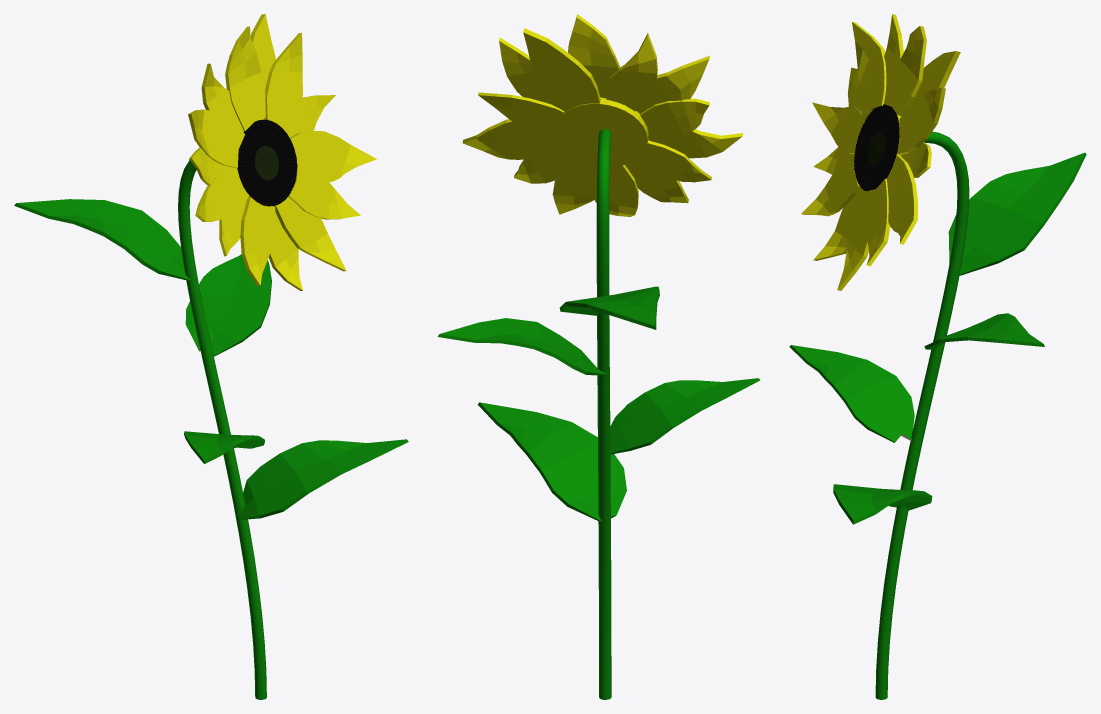
The model's file is sunflower2.fbx.
3 renders of one model, left to right at view 1: azimuth 30°, elevation 25°; view 2: azimuth 150°, elevation 25°; view 3: azimuth 270°, elevation 25°, orthographic. The views are drawn at different scales.
Visible parts, largest first — view 1: Cube.007; view 2: Cube.007; view 3: Cube.007.
Part boxes in pixels (x1,y1,x2,y2): Cube.007: (14,14,408,699); Cube.007: (437,14,760,699); Cube.007: (789,14,1086,699).
Bounding box in the file's own units: 295 × 657 × 262.
